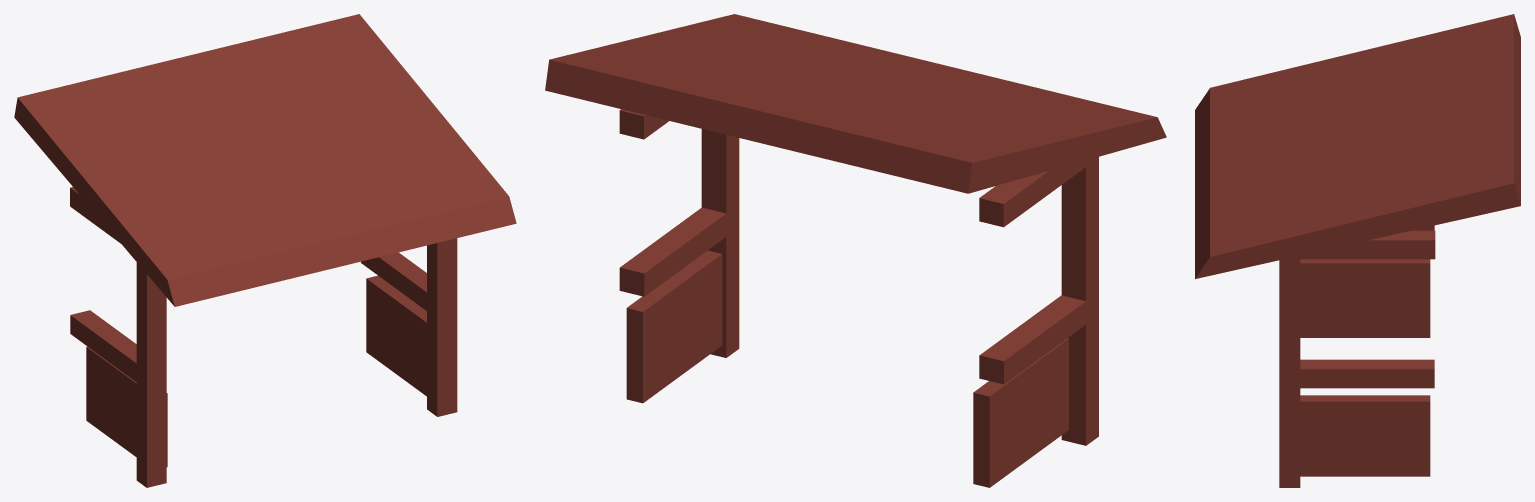
Rendered from canopy_2.fbx.
3 renders of one model, left to right at view 1: azimuth 30°, elevation 25°; view 2: azimuth 150°, elevation 25°; view 3: azimuth 270°, elevation 25°, orthographic. The views are drawn at different scales.
Visible parts, largest first — view 1: canopy_2; view 2: canopy_2; view 3: canopy_2.
Part boxes in pixels (x1,y1,x2,y2): canopy_2: (14, 14, 516, 487); canopy_2: (545, 14, 1166, 487); canopy_2: (1195, 14, 1520, 487).
Size of the model in its own units: 556 by 480 by 452.
